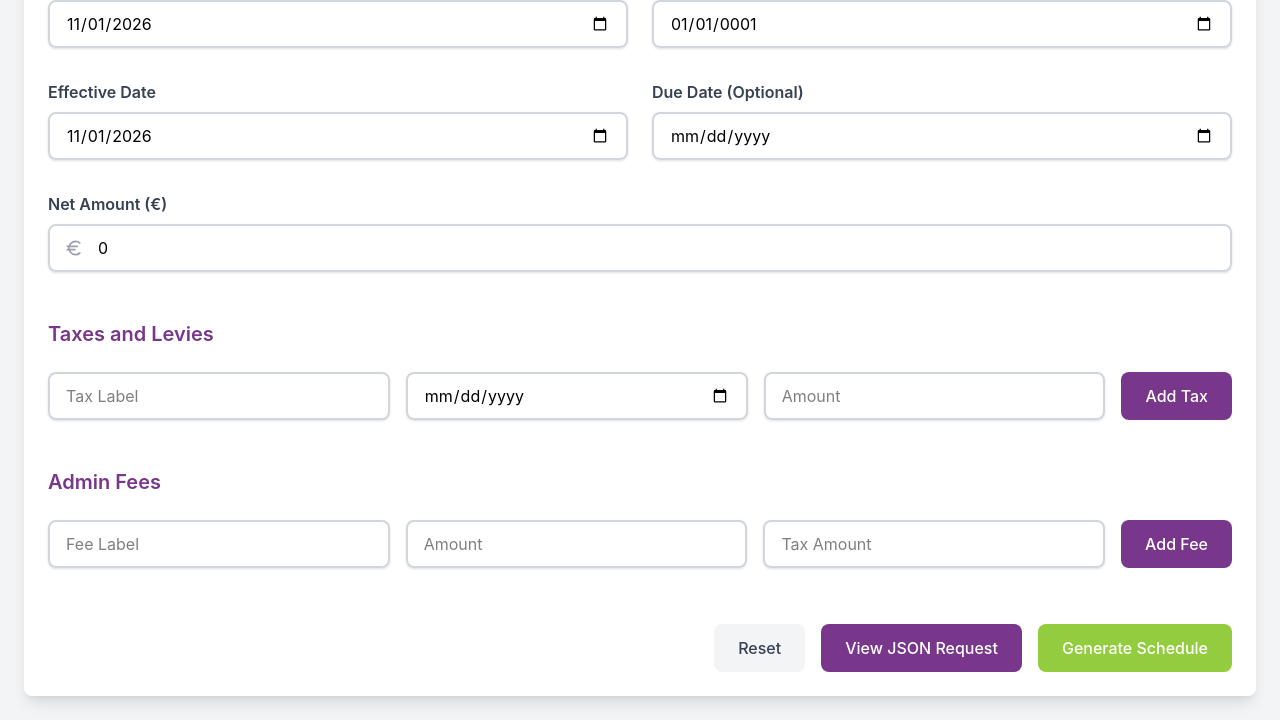
Test case: NewSchedule › opens and closes the JSON request preview modal
(page scrolled)
Step 1. Click the button "View JSON Request" → (922,648), box [821,624,1022,672]
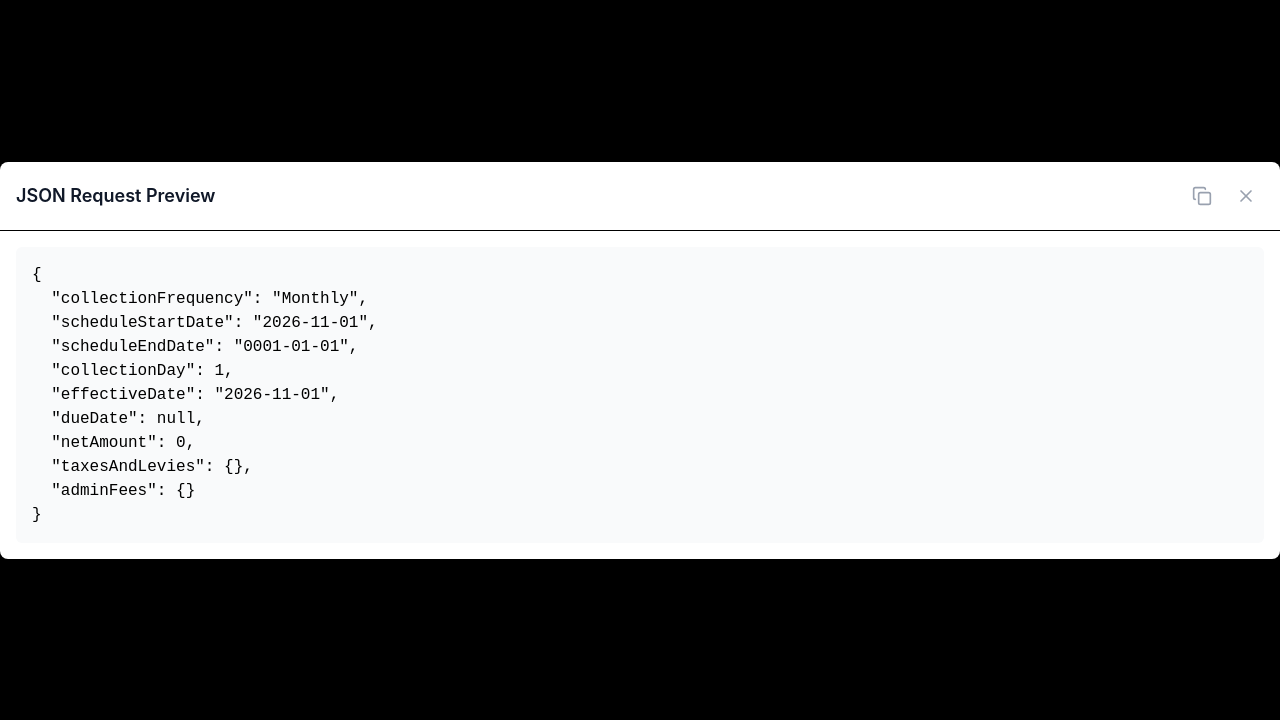
Expected: the heading "JSON Request Preview" is shown, [16,182,215,210]
Expected: the text "\"collectionFrequency\": \"Monthly\"" is shown, [32,266,378,524]
